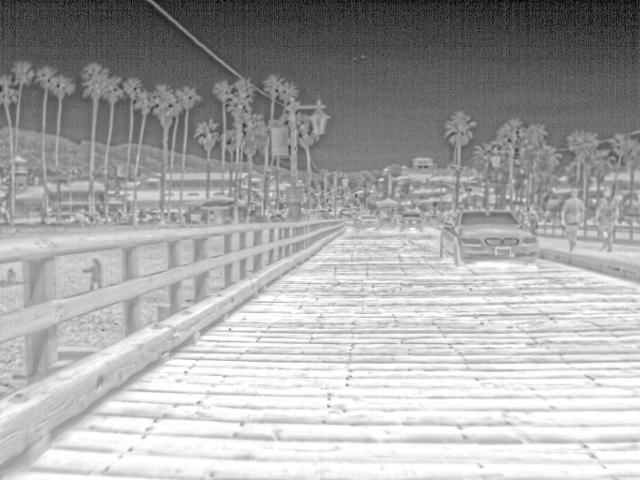car: (439, 210, 542, 265), (353, 210, 383, 230), (395, 210, 423, 231)
person: (594, 185, 621, 252), (563, 188, 586, 250), (81, 258, 108, 287)
